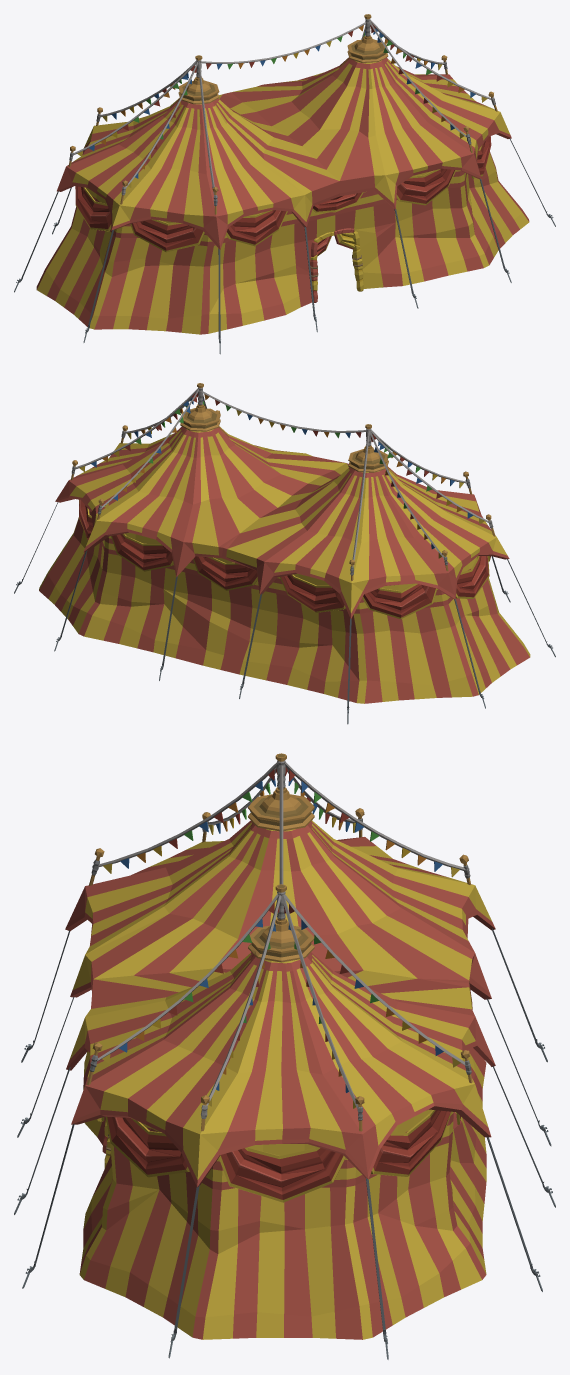
Rendered from SM_Prop_Tent_Large_02.fbx.
3 renders of one model, top to bottom at view 1: azimuth 30°, elevation 25°; view 2: azimuth 150°, elevation 25°; view 3: azimuth 270°, elevation 25°, orthographic. The views are drawn at different scales.
Parts seen in each view (by area): view 1: SM_Prop_Tent_Large_02; view 2: SM_Prop_Tent_Large_02; view 3: SM_Prop_Tent_Large_02.
Part boxes in pixels (x1,y1,x2,y2): SM_Prop_Tent_Large_02: [14, 14, 555, 354]; SM_Prop_Tent_Large_02: [14, 383, 555, 724]; SM_Prop_Tent_Large_02: [14, 753, 555, 1359].
Bounding box in the file's own units: 2659 × 1209 × 1657.
